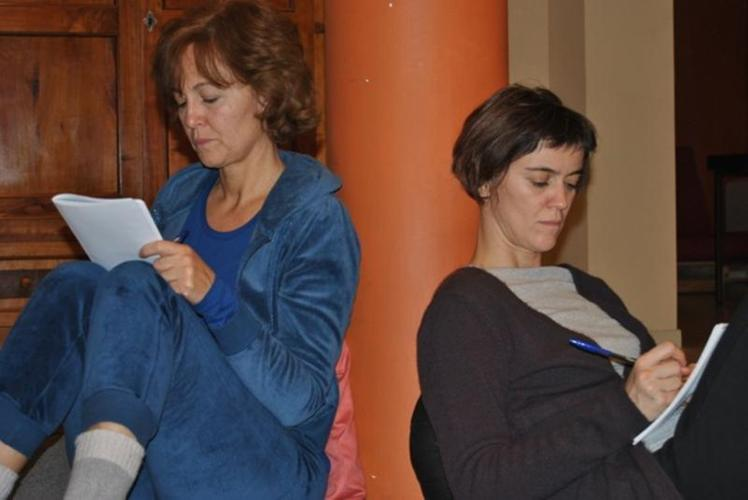person: (415, 84, 693, 500)
